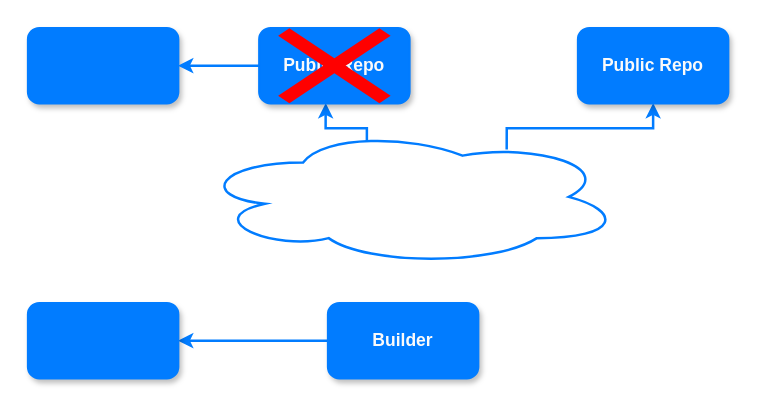
This 758x409 diagram has some shape labels left out. The shapes that lost their labels are listed below. From the top down, each one's centre as x and y in pixels, then its label:
pixel 103 66: S3
pixel 103 342: Local Repo
